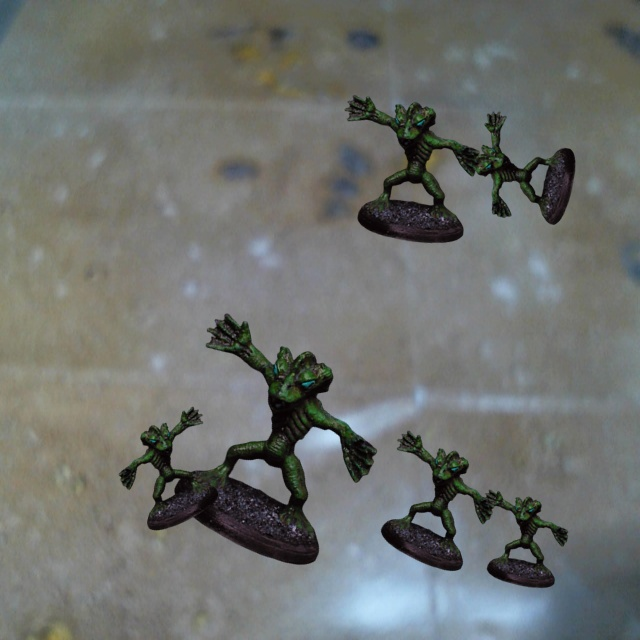pieza_juego: (174, 313, 376, 564), (344, 95, 479, 242), (381, 430, 493, 570), (119, 407, 218, 530), (476, 111, 575, 224), (483, 490, 567, 587)
